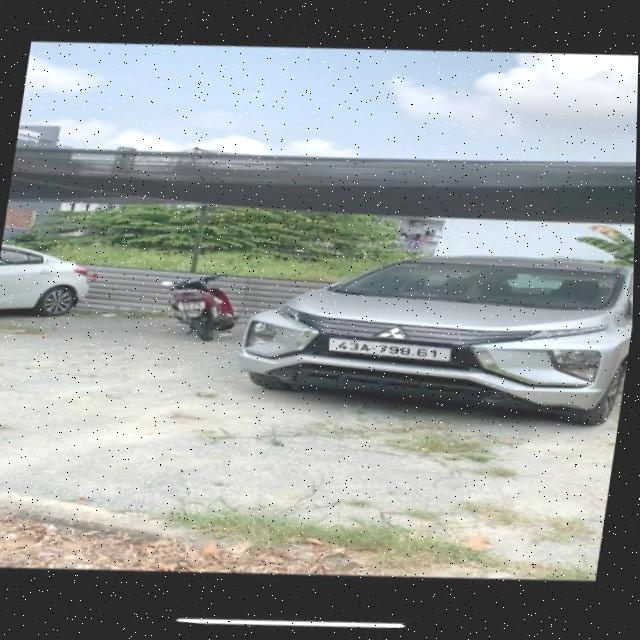car: (236, 200, 635, 454), (0, 233, 98, 333)
motorcycle: (160, 280, 239, 345)
plate: (320, 322, 459, 377)
